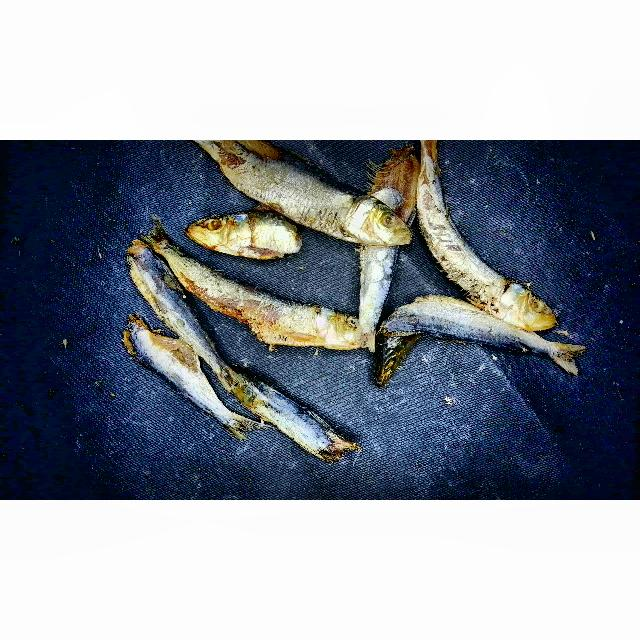Rejected_Body: (170, 255, 306, 349), (415, 152, 504, 295), (124, 236, 220, 366), (197, 144, 352, 214), (247, 374, 360, 468), (123, 310, 223, 411), (391, 292, 504, 350), (366, 151, 418, 207), (357, 244, 398, 307)
Rejected_Head: (180, 210, 303, 264), (320, 197, 414, 250), (481, 276, 558, 331), (304, 304, 362, 360), (370, 320, 417, 389)
Rejected_Tail: (213, 402, 268, 445), (541, 335, 589, 376), (133, 217, 177, 259), (210, 359, 245, 393)
